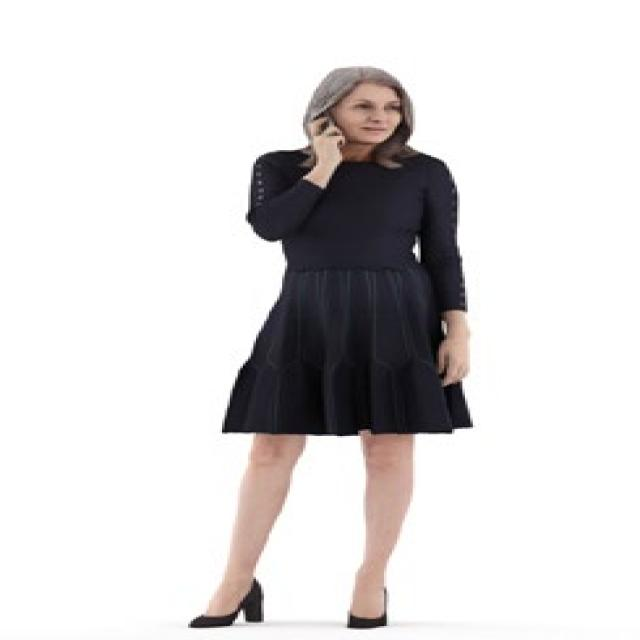standing: (179, 61, 495, 634)
